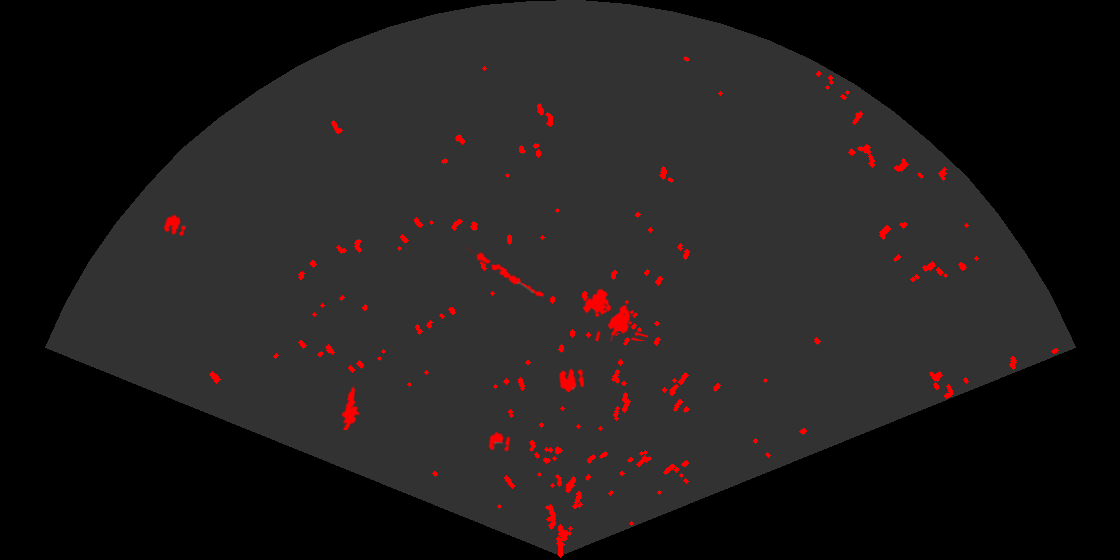ball: (558, 367, 586, 394), (162, 213, 188, 238), (487, 430, 512, 453)
cage: (581, 287, 648, 341)
chain: (466, 245, 546, 298)
frogman: (340, 385, 361, 430)
